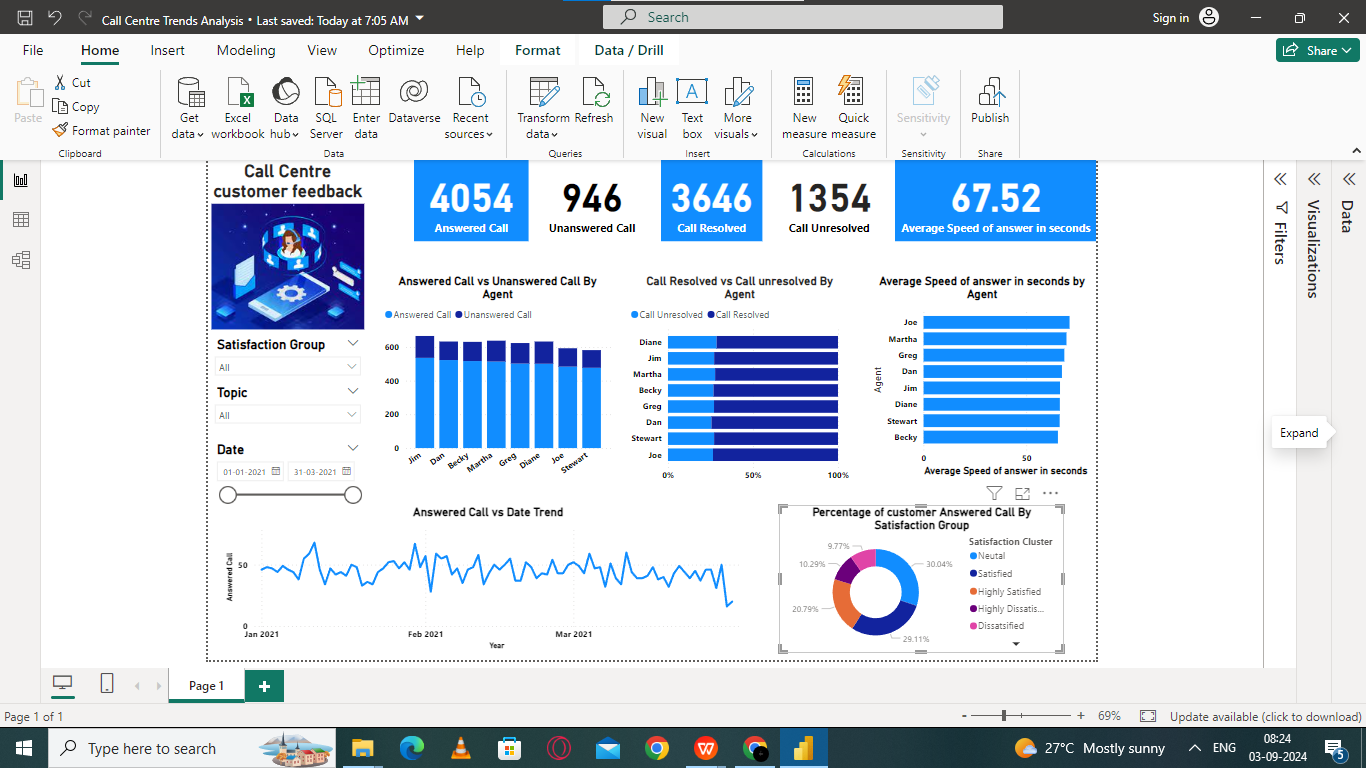

The page's visual inventory and layout, read from the dashboard file:
{"tool":"powerbi","page":{"name":"Page 1","canvas":[1280,720],"ordinal":0},"visuals":[{"type":"card","fields":{"Values":["call_centre.Answered Call"]},"box":[297.3,0,165.2,117],"z":0},{"type":"card","fields":{"Values":["call_centre.Unanswered Call"]},"box":[474.8,0,155.5,117],"z":1000},{"type":"card","fields":{"Values":["call_centre.Call Resolved"]},"box":[652.4,0,145.9,117],"z":2000},{"type":"card","fields":{"Values":["call_centre.Call Unresolved"]},"box":[812,0,165.2,117],"z":3000},{"type":"card","fields":{"Values":["call_centre.Speed of answer in seconds"]},"box":[989.6,0,290.4,117],"z":4000},{"type":"columnChart","title":"Answered Call vs Unanswered Call By Agent","fields":{"Y":["call_centre.Answered Call","call_centre.Unanswered Call"],"Category":["call_centre.Agent"]},"box":[249.3,164,336,308],"z":5000},{"type":"hundredPercentStackedBarChart","title":"Call Resolved vs Call unresolved By Agent","fields":{"Category":["call_centre.Agent"],"Y":["call_centre.Call Unresolved","call_centre.Call Resolved"]},"box":[602.8,163.8,324.8,308.3],"z":6000},{"type":"slicer","fields":{"Values":["call_centre.Satisfaction Cluster"]},"box":[0,249.1,229.8,68.8],"z":7000},{"type":"slicer","fields":{"Values":["call_centre.Topic"]},"box":[0,317.9,229.8,68.8],"z":8000},{"type":"slicer","fields":{"Values":["call_centre.Date"]},"box":[0,400.5,229.8,173.4],"z":9000},{"type":"barChart","fields":{"Category":["call_centre.Agent"],"Y":["call_centre.Speed of answer in seconds"]},"box":[951.1,163.8,328.9,295.9],"z":10000},{"type":"lineChart","title":"Answered Call vs Date Trend","fields":{"Y":["call_centre.Answered Call"],"Category":["call_centre.Date.Variation.Date Hierarchy.Year","call_centre.Date.Variation.Date Hierarchy.Month","call_centre.Date.Variation.Date Hierarchy.Day"]},"box":[20.6,496.9,766.6,213.3],"z":11000},{"type":"image","title":"Call Centre customer  feedback","box":[0,0,229.8,249.1],"z":12000},{"type":"donutChart","title":"Percentage of customer Answered Call By Satisfaction Group","fields":{"Y":["call_centre.Answered Call"],"Category":["call_centre.Satisfaction Cluster"]},"box":[821.7,496.9,411.5,213.3],"z":13000}]}

Visuals, with their boxes on the page's 1280x720 design canvas (x1, y1, x2, y2). These are canvas units, not pixel positions in the 1366x768 screenshot, which may show the page scaled, cropped or inside an application window:
card - call_centre.Answered Call: [297, 0, 462, 117]
card - call_centre.Unanswered Call: [475, 0, 630, 117]
card - call_centre.Call Resolved: [652, 0, 798, 117]
card - call_centre.Call Unresolved: [812, 0, 977, 117]
card - call_centre.Speed of answer in seconds: [990, 0, 1280, 117]
"Answered Call vs Unanswered Call By Agent" columnChart: [249, 164, 585, 472]
"Call Resolved vs Call unresolved By Agent" hundredPercentStackedBarChart: [603, 164, 928, 472]
slicer - call_centre.Satisfaction Cluster: [0, 249, 230, 318]
slicer - call_centre.Topic: [0, 318, 230, 387]
slicer - call_centre.Date: [0, 400, 230, 574]
barChart - call_centre.Agent x call_centre.Speed of answer in seconds: [951, 164, 1280, 460]
"Answered Call vs Date Trend" lineChart: [21, 497, 787, 710]
"Call Centre customer  feedback" image: [0, 0, 230, 249]
"Percentage of customer Answered Call By Satisfaction Group" donutChart: [822, 497, 1233, 710]
